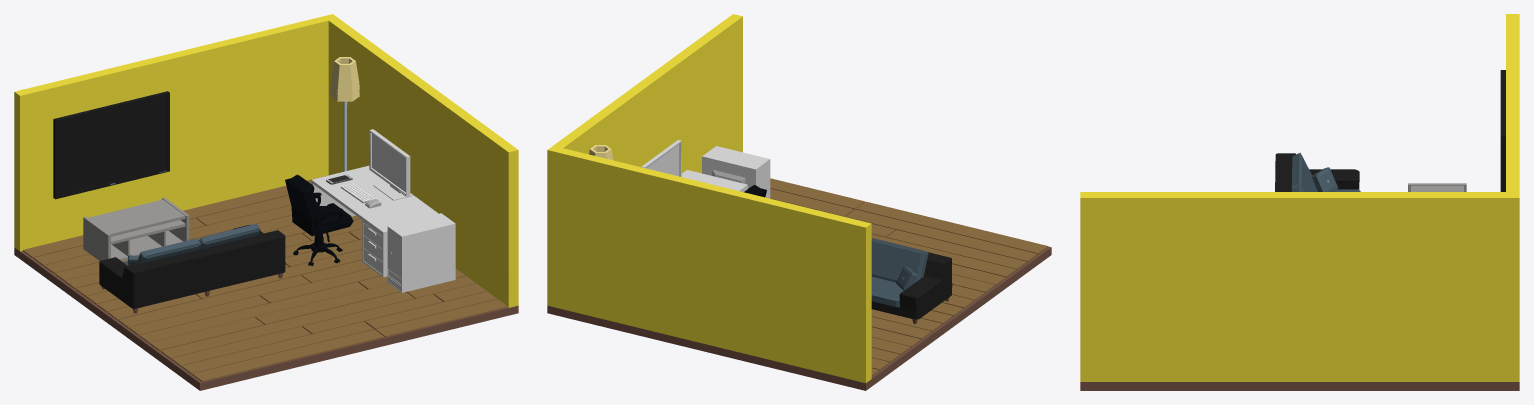
The model's file is finalRoom.glb.
The picture shows the model from 3 angles, left to right: view 1: azimuth 30°, elevation 25°; view 2: azimuth 150°, elevation 25°; view 3: azimuth 270°, elevation 25°; orthographic projection. The views are drawn at different scales.
Visible parts, largest first — view 1: Plane, Cube.024, Node, Cube_Cube.001, Shelf_Small2, Computer.001, Desk, ExecutiveChair1, Monitor, lampRoundFloor, lampRoundFloor_1; view 2: Plane, Cube.024, Node, Computer.001, Monitor, Desk; view 3: Plane, Node, Cube_Cube.001, Shelf_Small2.
Part boxes in pixels (x1=…): Plane: x1=14, y1=14, x2=518, y2=390; Cube.024: x1=23, y1=175, x2=507, y2=381; Node: x1=99, y1=224, x2=285, y2=313; Cube_Cube.001: x1=53, y1=91, x2=169, y2=199; Shelf_Small2: x1=83, y1=197, x2=189, y2=261; Computer.001: x1=387, y1=213, x2=455, y2=292; Desk: x1=311, y1=165, x2=438, y2=277; ExecutiveChair1: x1=285, y1=174, x2=353, y2=265; Monitor: x1=369, y1=129, x2=412, y2=200; lampRoundFloor: x1=330, y1=57, x2=359, y2=94; lampRoundFloor_1: x1=329, y1=90, x2=359, y2=171; Plane: x1=547, y1=14, x2=1051, y2=390; Cube.024: x1=770, y1=178, x2=1048, y2=375; Node: x1=871, y1=238, x2=952, y2=323; Computer.001: x1=702, y1=146, x2=770, y2=198; Monitor: x1=641, y1=140, x2=681, y2=176; Desk: x1=682, y1=170, x2=747, y2=191; Plane: x1=1080, y1=14, x2=1519, y2=390; Node: x1=1275, y1=152, x2=1360, y2=191; Cube_Cube.001: x1=1500, y1=70, x2=1505, y2=191; Shelf_Small2: x1=1408, y1=183, x2=1466, y2=191.
Size of the model in its own units: 76.68 by 37.56 by 77.45.
